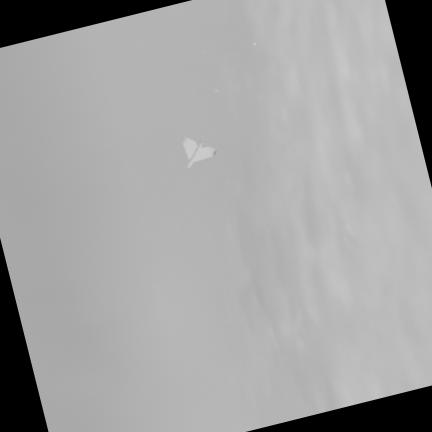Shahed: (182, 137, 216, 168)
